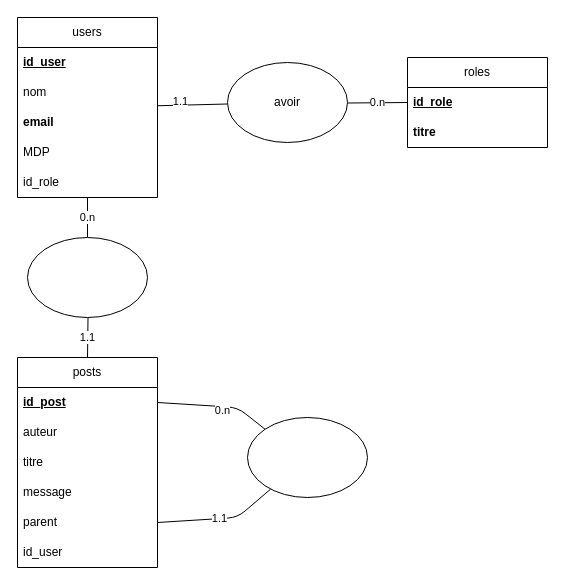
Image size: 565x585. Some labels were removed from this diagram. Here are the shapes that lost their labels. From the top down, the centre of each, then its label:
At pixel 87 277: "poster".
At pixel 307 457: "commenter".
